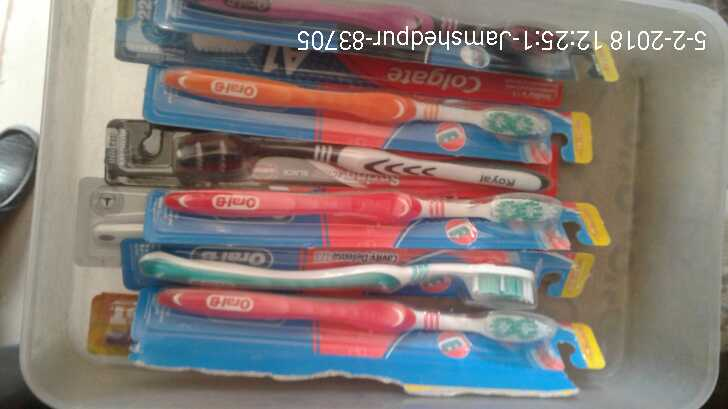oralb: (148, 64, 595, 165), (141, 291, 615, 376), (117, 236, 586, 302), (148, 187, 616, 242)
